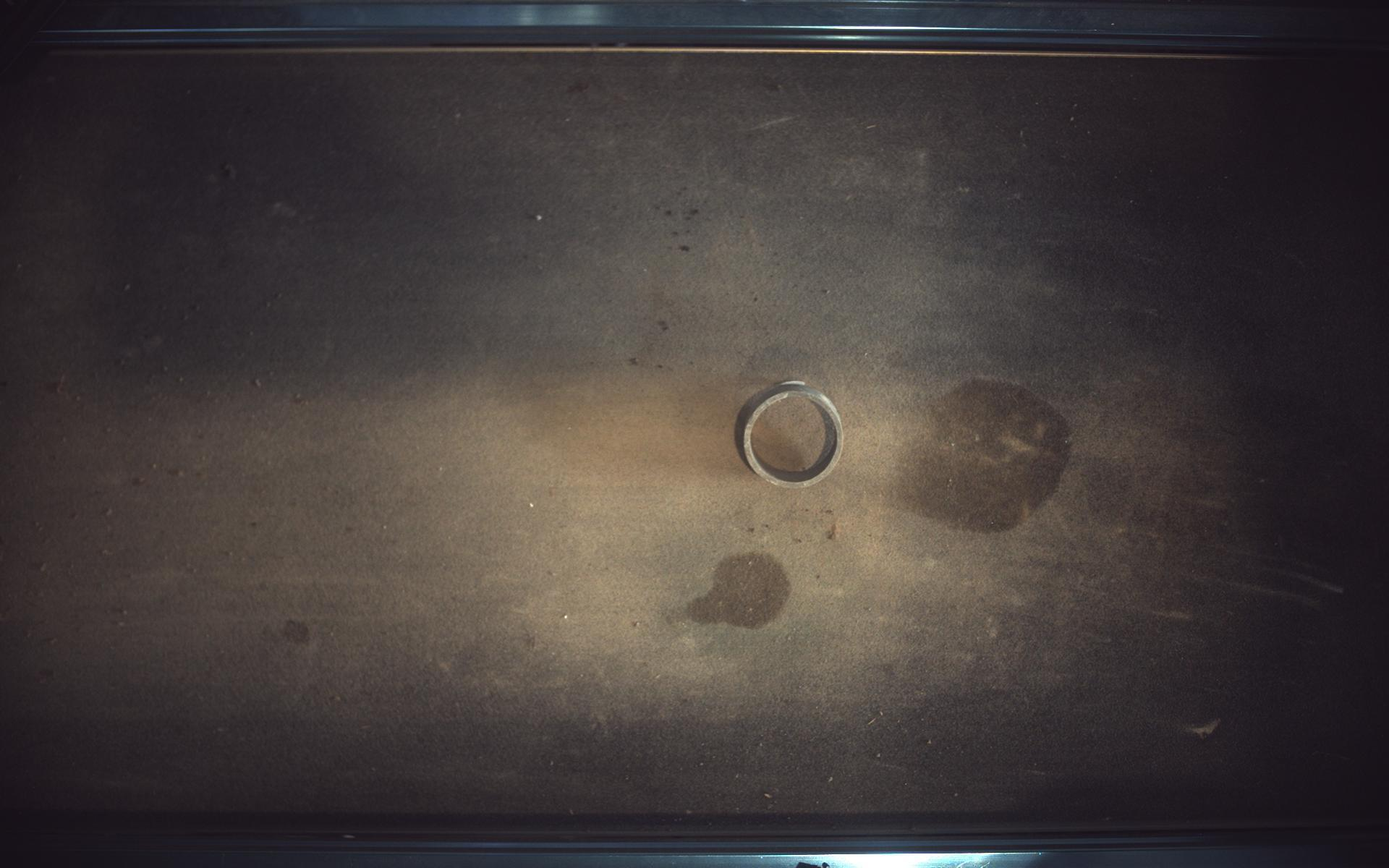pipes: (736, 380, 845, 488)
